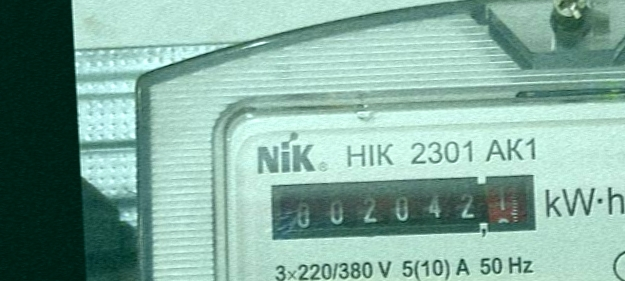0: (392, 190, 412, 221), (327, 194, 346, 226), (294, 197, 313, 228)
1: (494, 180, 510, 212)
2: (360, 193, 380, 223), (458, 188, 477, 218)
4: (425, 187, 445, 220)
screen: (266, 165, 543, 251)
